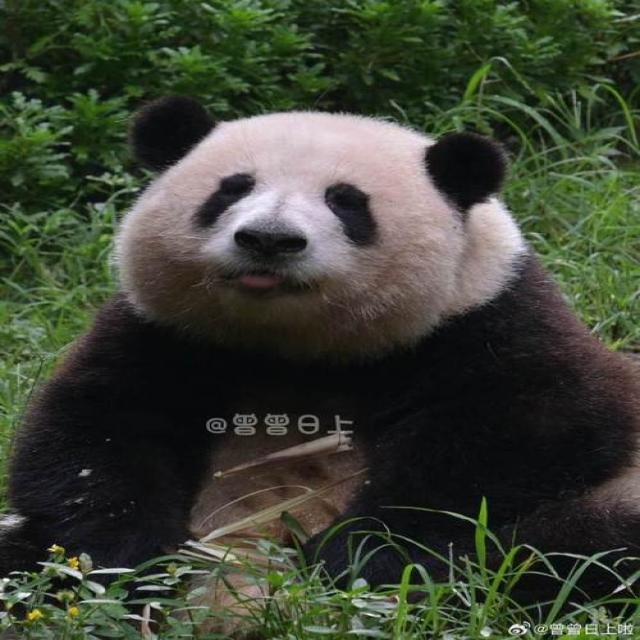panda: (37, 91, 590, 558)
